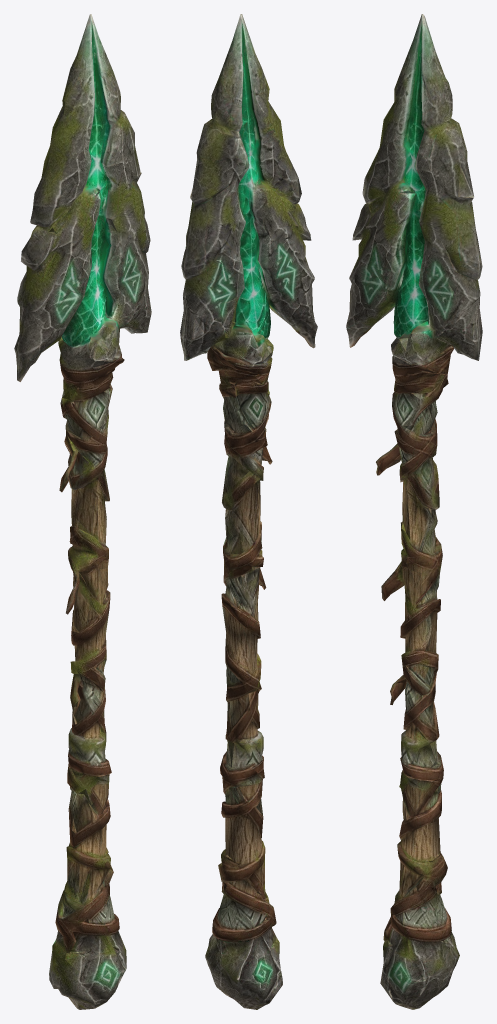
File: polearm-earth.glb
3 views of the same model, side by side, from view 1: azimuth 30°, elevation 25°; view 2: azimuth 210°, elevation 25°; view 3: azimuth 330°, elevation 25° (orthographic).
Size of the model in its own units: 0.2765 by 2 by 0.1545.
1 material, 1 textured.
